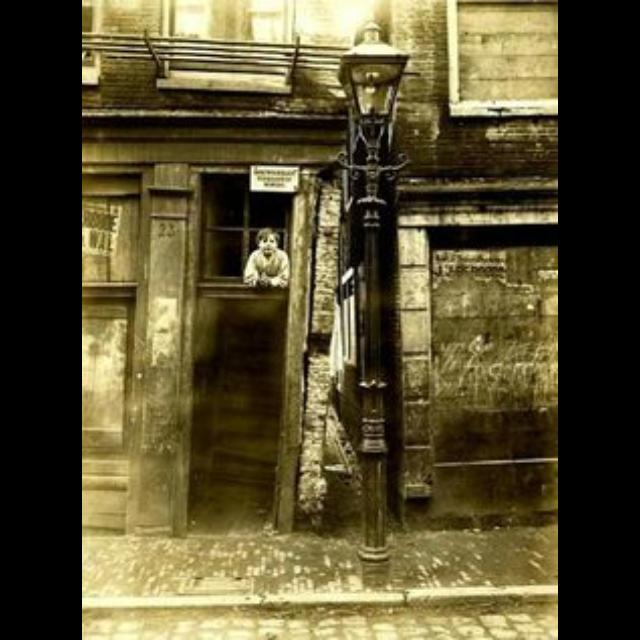Street-Lamp: (324, 22, 418, 566)
